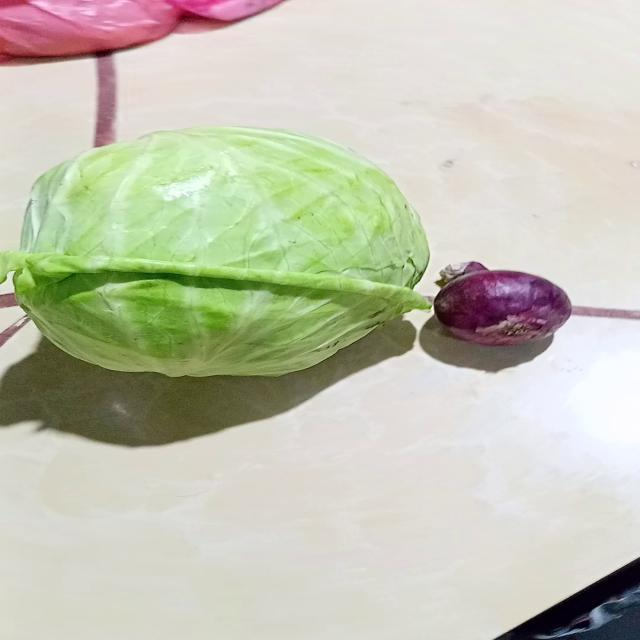cabbage: (11, 127, 431, 380)
onion: (430, 263, 571, 348)
